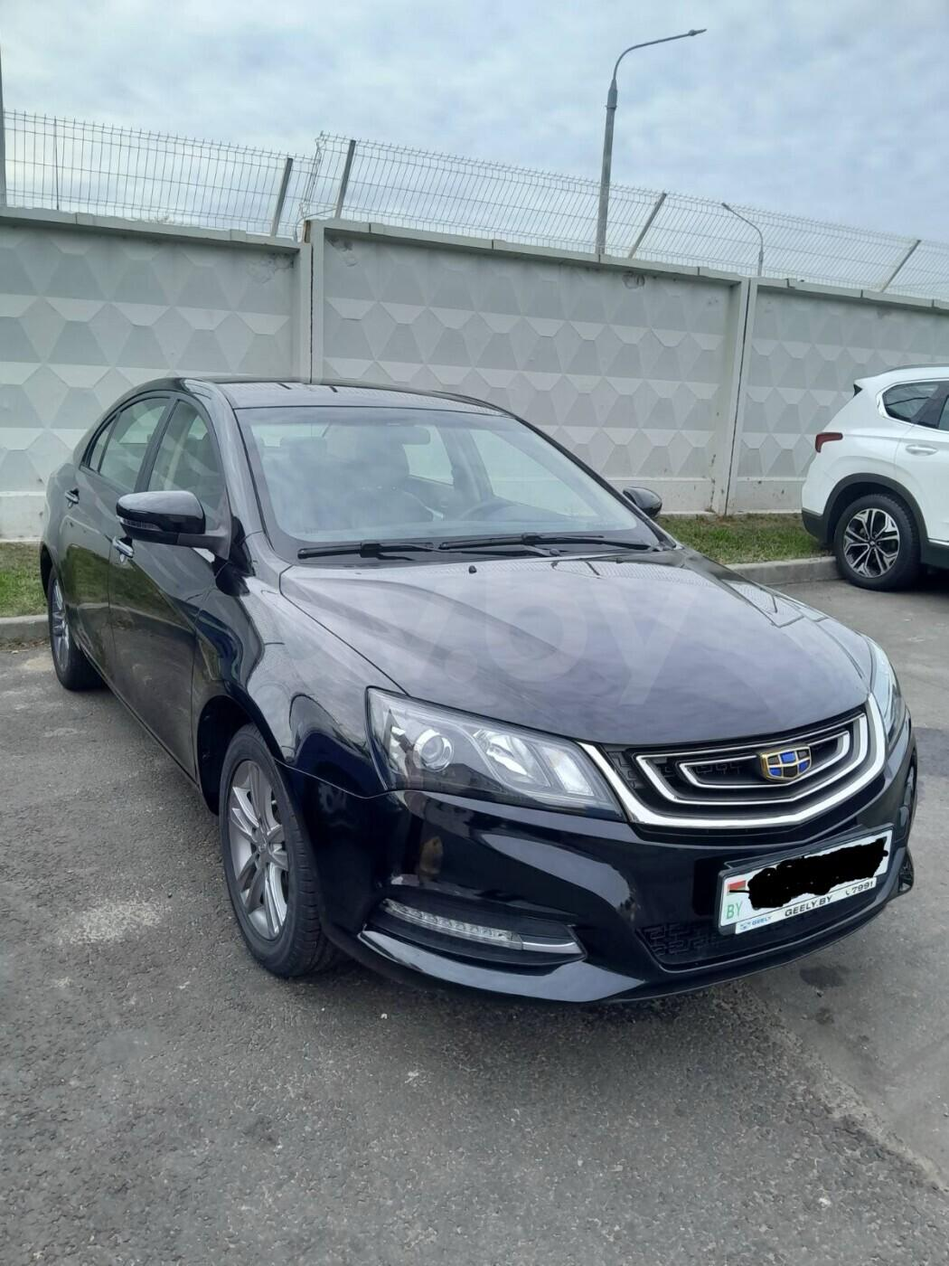Emgrand_2019-2021: (39, 375, 919, 1002)
